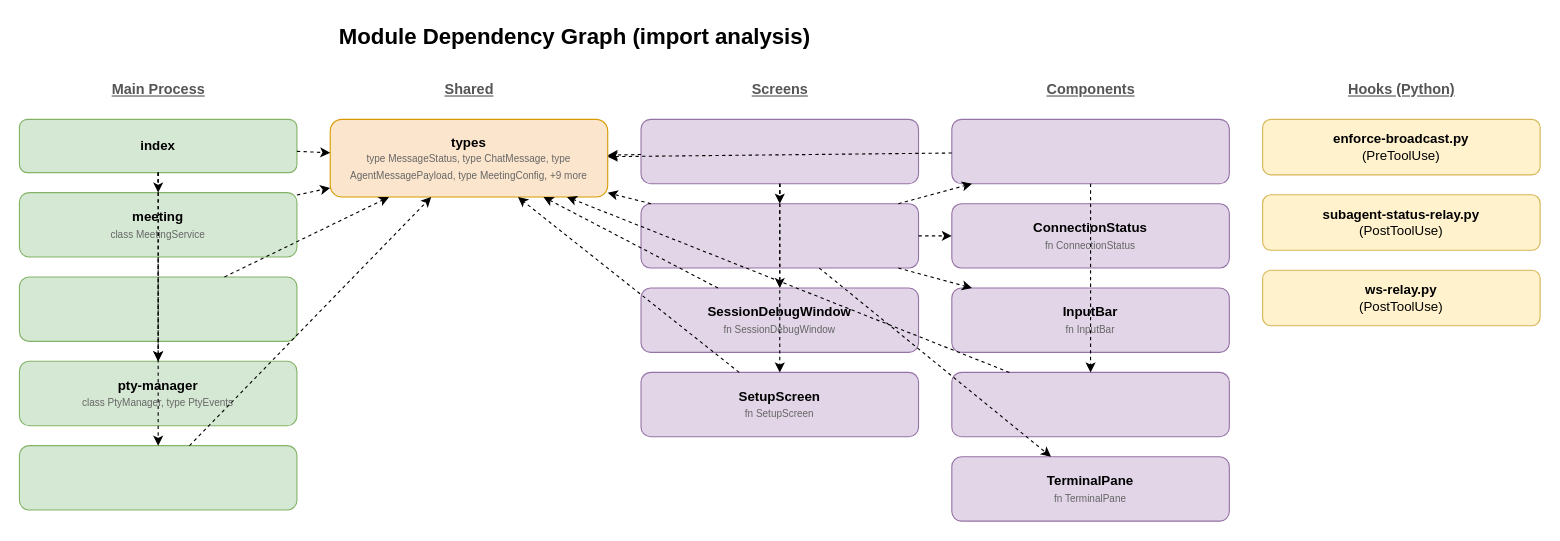
This 1560x541 diagram has some shape labels left out. Here are the shapes that lost their labels. From the top down, the box of each, then its label:
(640, 118, 919, 184): App fn App
(951, 118, 1229, 184): ChatView fn ChatView
(640, 203, 919, 268): MeetingScreen fn MeetingScreen
(18, 276, 297, 341): preload type MeetingRoomApi
(951, 371, 1229, 437): MessageBubble fn MessageBubble
(18, 445, 297, 510): ws-server class RelayServer, type RelayHandler
